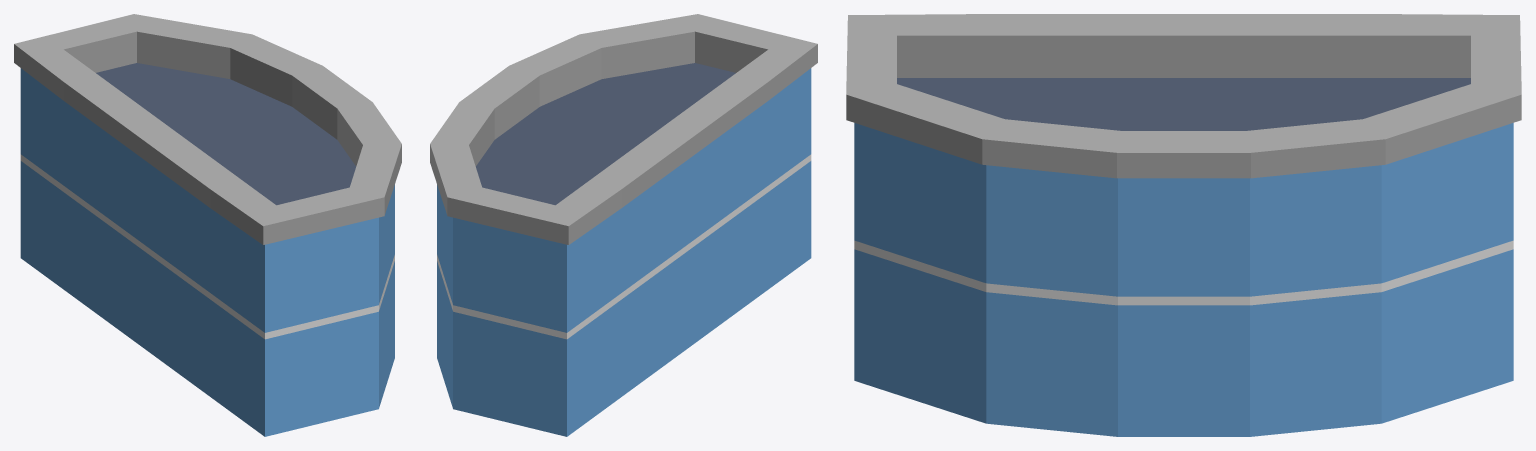
The model's file is building_1x2_9_r.glb.
3 views of the same model, side by side, from view 1: azimuth 30°, elevation 25°; view 2: azimuth 150°, elevation 25°; view 3: azimuth 270°, elevation 25° (orthographic). The views are drawn at different scales.
Visible parts, largest first — view 1: Cube.002; view 2: Cube.002; view 3: Cube.002.
Part boxes in pixels (x1=…): Cube.002: x1=14, y1=14, x2=401, y2=436; Cube.002: x1=430, y1=14, x2=817, y2=436; Cube.002: x1=846, y1=14, x2=1521, y2=436.
Bounding box in the file's own units: 1.75 × 1.7 × 3.6.
